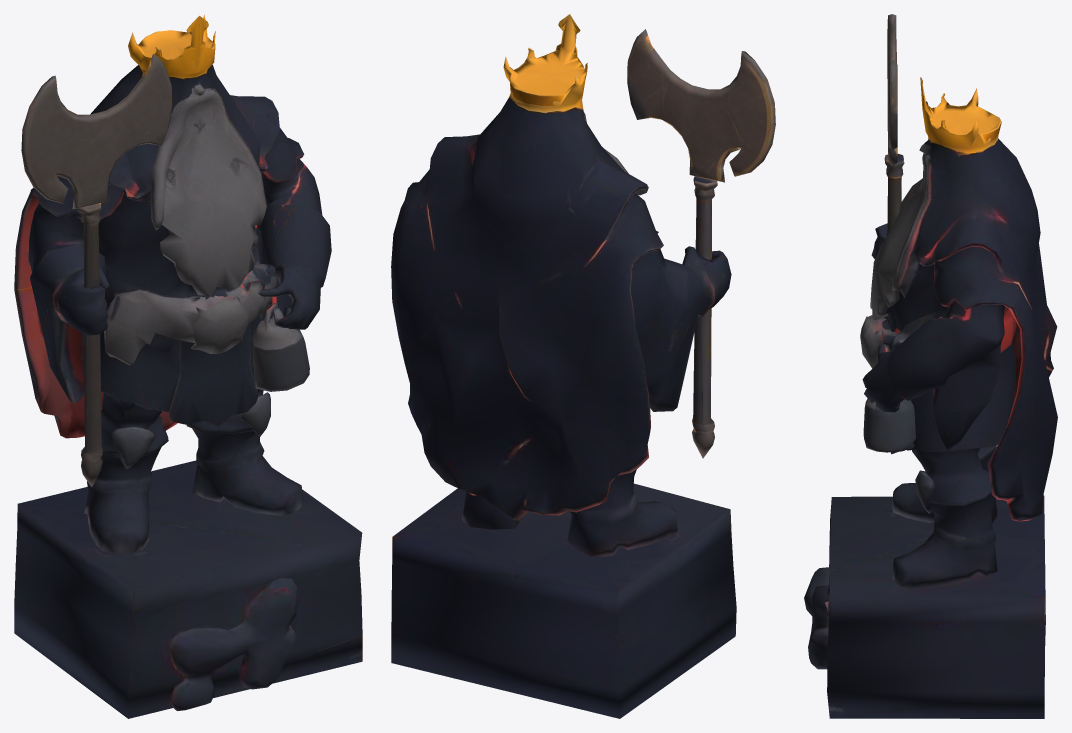
The model's file is kingStatue.glb.
3 renders of one model, left to right at view 1: azimuth 30°, elevation 25°; view 2: azimuth 150°, elevation 25°; view 3: azimuth 270°, elevation 25°, orthographic. The views are drawn at different scales.
Bounding box in the file's own units: 0.5229 × 0.9526 × 0.3711.
1 material, 1 textured.
